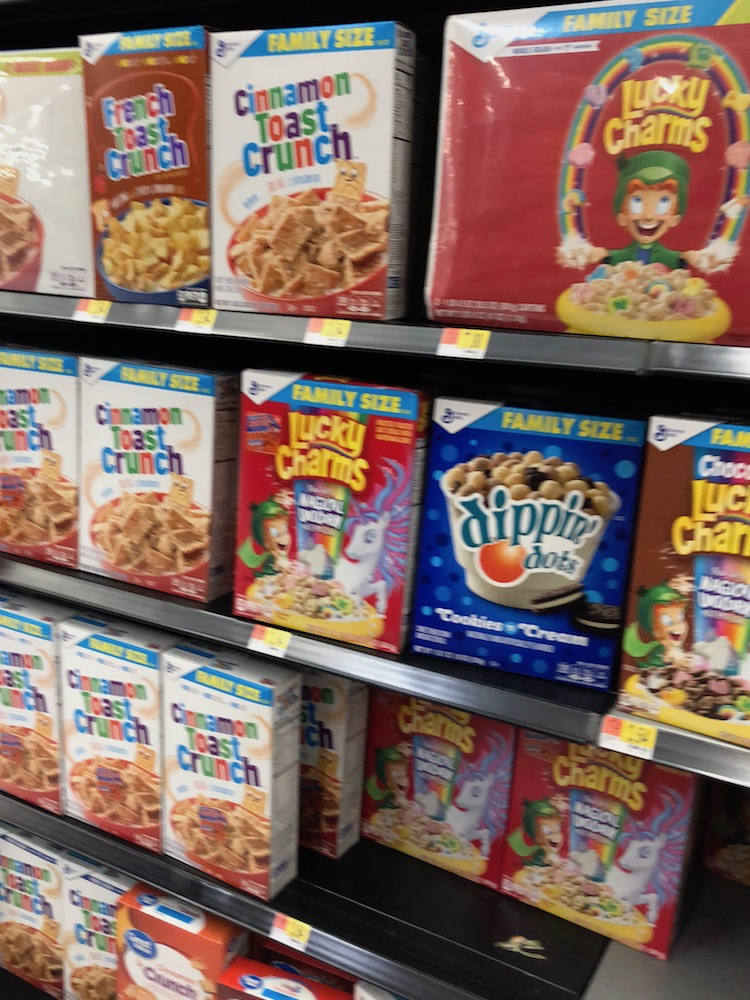Dippin Dots Cookies & Cream -568929378: (424, 411, 619, 689)
